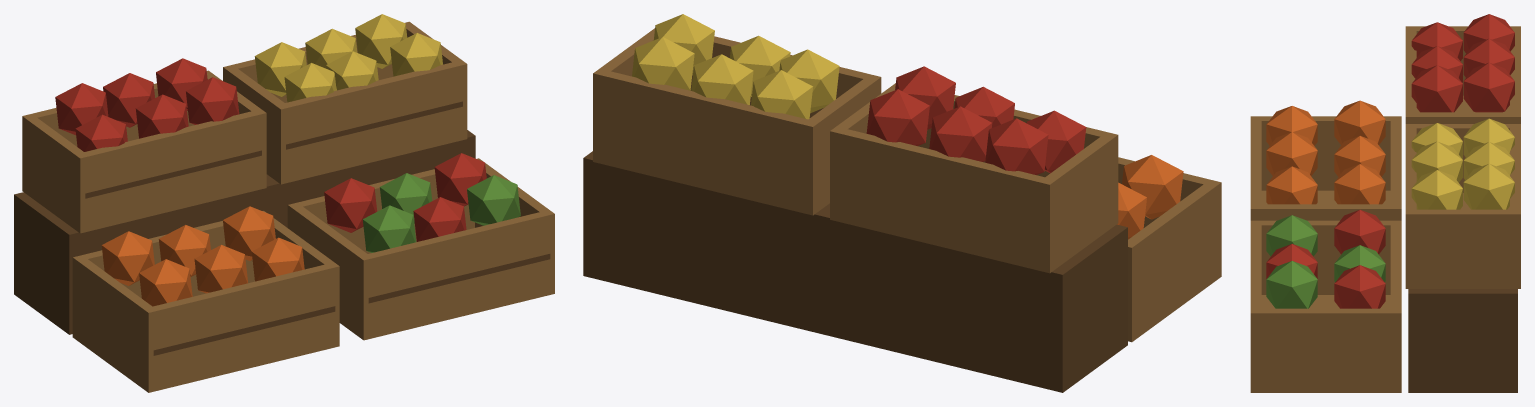
Rendered from epicerie_etal.glb.
3 views of the same model, side by side, from view 1: azimuth 30°, elevation 25°; view 2: azimuth 150°, elevation 25°; view 3: azimuth 270°, elevation 25° (orthographic). The views are drawn at different scales.
Parts seen in each view (by area): view 1: epicerie_etal; view 2: epicerie_etal; view 3: epicerie_etal.
Boxes of the visible parts, x1,y1,x2,y2 form: epicerie_etal: (14, 14, 554, 392); epicerie_etal: (583, 14, 1221, 392); epicerie_etal: (1250, 14, 1520, 392).
Size of the model in its own units: 1.7 by 0.8368 by 0.987.
